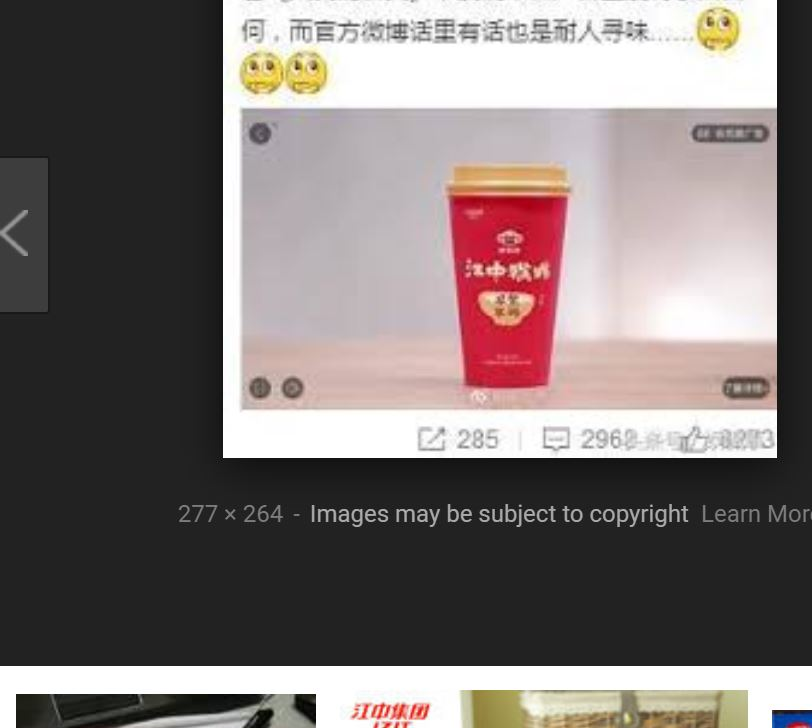cup: (447, 164, 567, 395)
